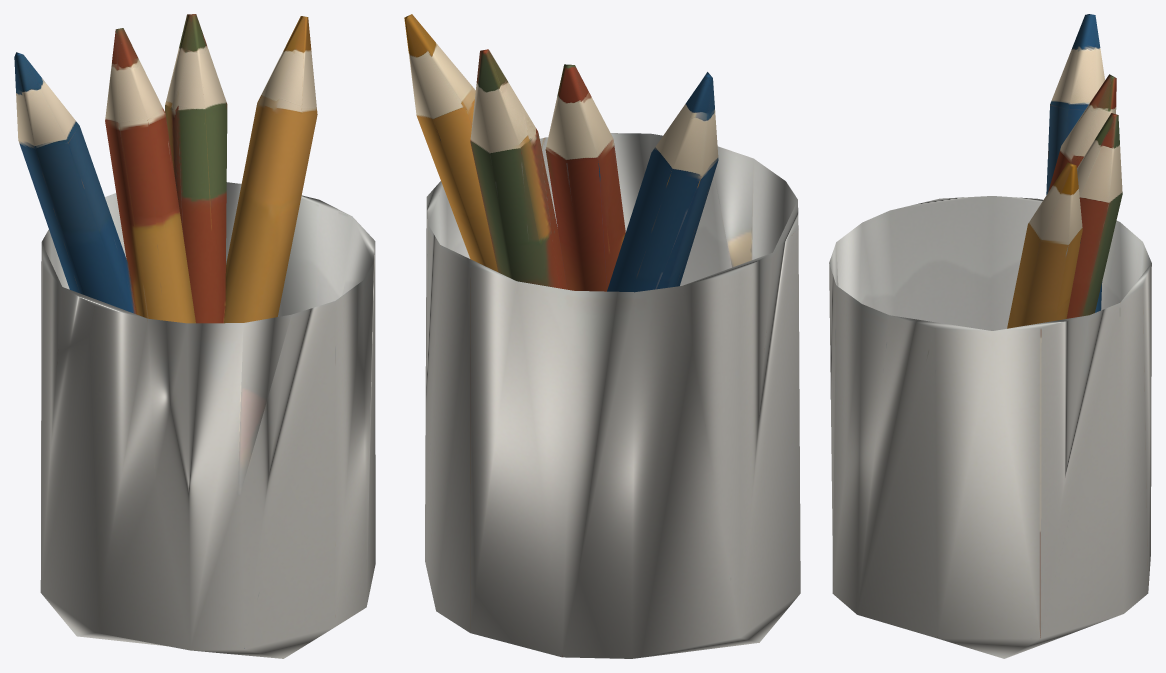
Rendered from pencil_cup.glb.
3 views of the same model, side by side, from view 1: azimuth 30°, elevation 25°; view 2: azimuth 150°, elevation 25°; view 3: azimuth 270°, elevation 25° (orthographic). The views are drawn at different scales.
Size of the model in its own units: 0.5288 by 0.9517 by 0.5342.
1 material, 1 textured.
